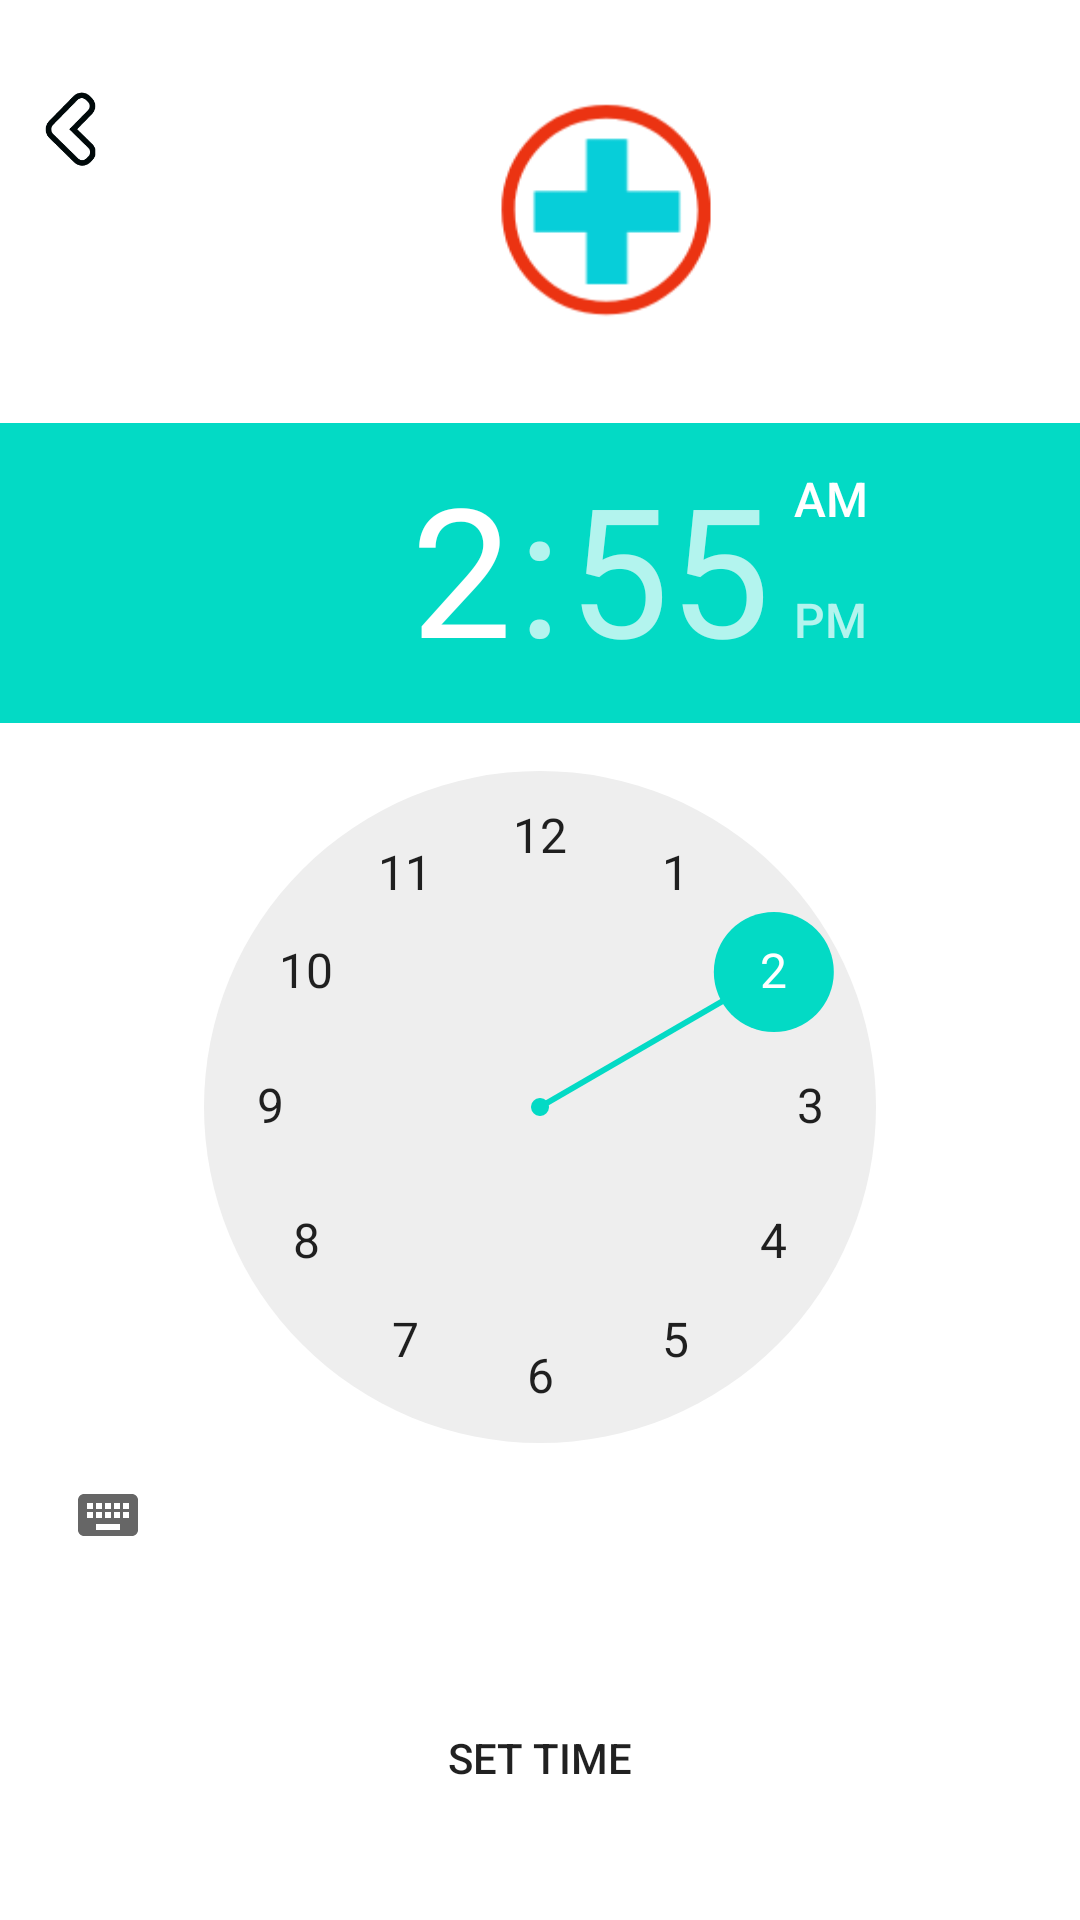

Screen size 1080x1920. Icon name, then its center in pixels as point (x, y):
back: point (70, 129)
